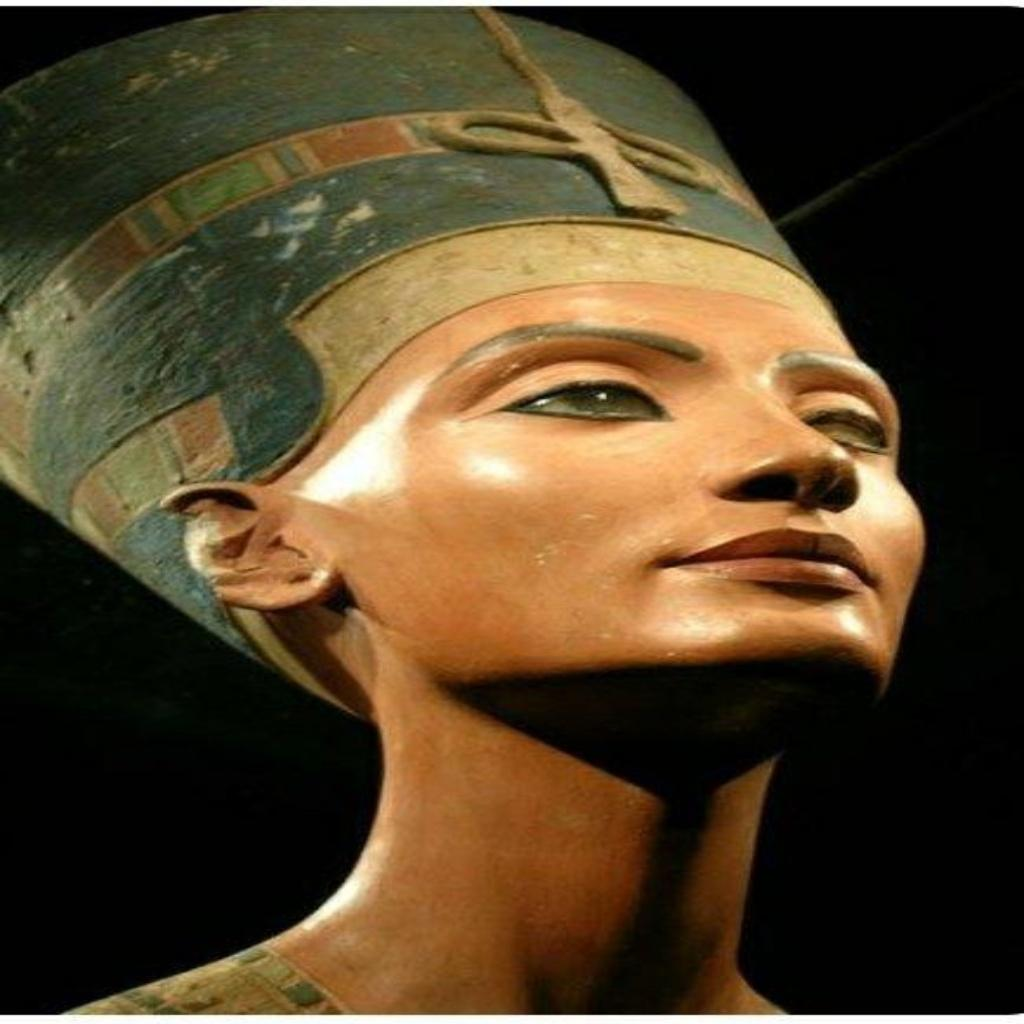Nefertiti: (0, 6, 939, 1013)
